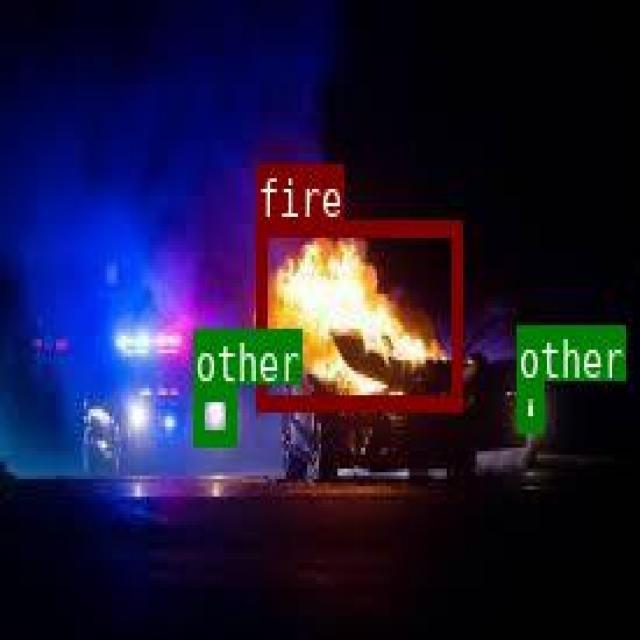fire: (256, 220, 459, 407)
